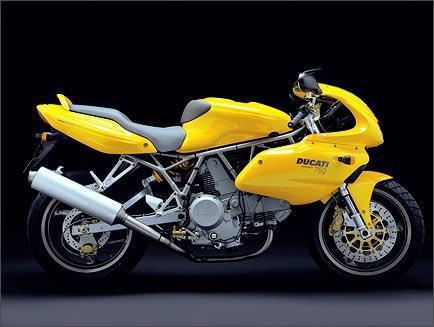motorcycle: (23, 71, 428, 298)
